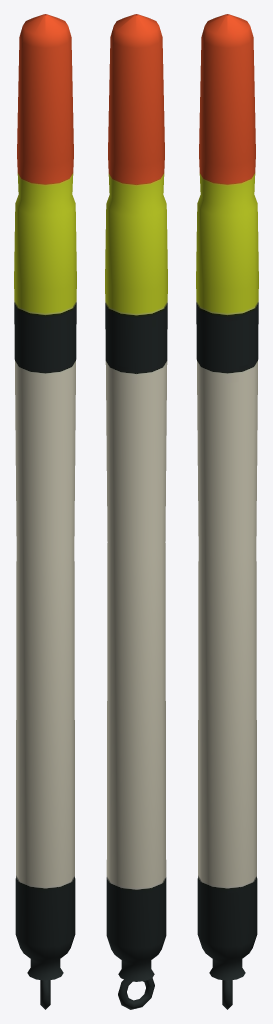
The picture shows the model from 3 angles, left to right: view 1: azimuth 90°, elevation 25°; view 2: azimuth 210°, elevation 25°; view 3: azimuth 270°, elevation 25°; orthographic projection.
Visible parts, largest first — view 1: F41_Float; view 2: F41_Float; view 3: F41_Float.
Boxes of the visible parts, <box> form: F41_Float: <box>14,14,76,1009</box>; F41_Float: <box>105,14,167,1009</box>; F41_Float: <box>196,14,258,1009</box>.
Bounding box in the file's own units: 0.0115 × 0.2 × 0.0115.
Materials: 1 (1 with a texture image).
